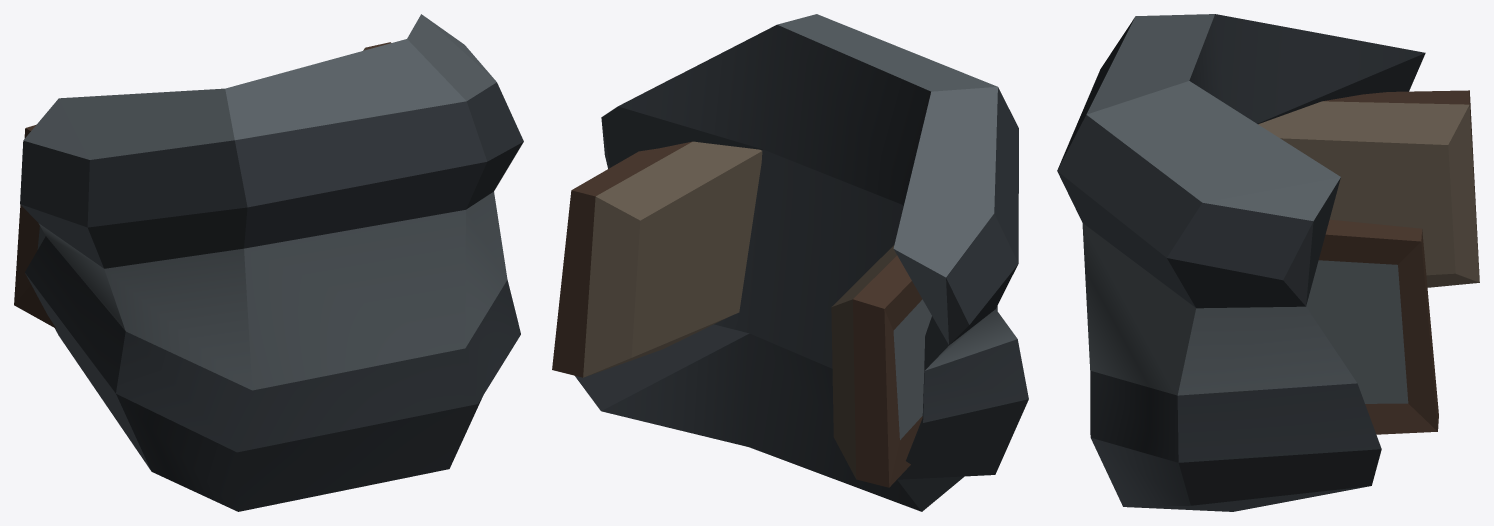
The model's file is Chr_KneeAttachRight_03_Static.fbx.
3 renders of one model, left to right at view 1: azimuth 30°, elevation 25°; view 2: azimuth 150°, elevation 25°; view 3: azimuth 270°, elevation 25°, orthographic. The views are drawn at different scales.
Parts seen in each view (by area): view 1: Chr_KneeAttachRight_03_Static; view 2: Chr_KneeAttachRight_03_Static; view 3: Chr_KneeAttachRight_03_Static.
Part boxes in pixels (left/top/right/bottom): Chr_KneeAttachRight_03_Static: left=14, top=14, right=523, bottom=511; Chr_KneeAttachRight_03_Static: left=552, top=14, right=1028, bottom=511; Chr_KneeAttachRight_03_Static: left=1057, top=14, right=1479, bottom=511.
Size of the model in its own units: 0.1786 by 0.1731 by 0.1502.
